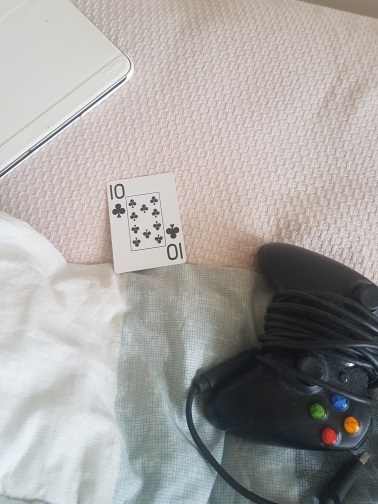ten: (108, 172, 189, 274)
